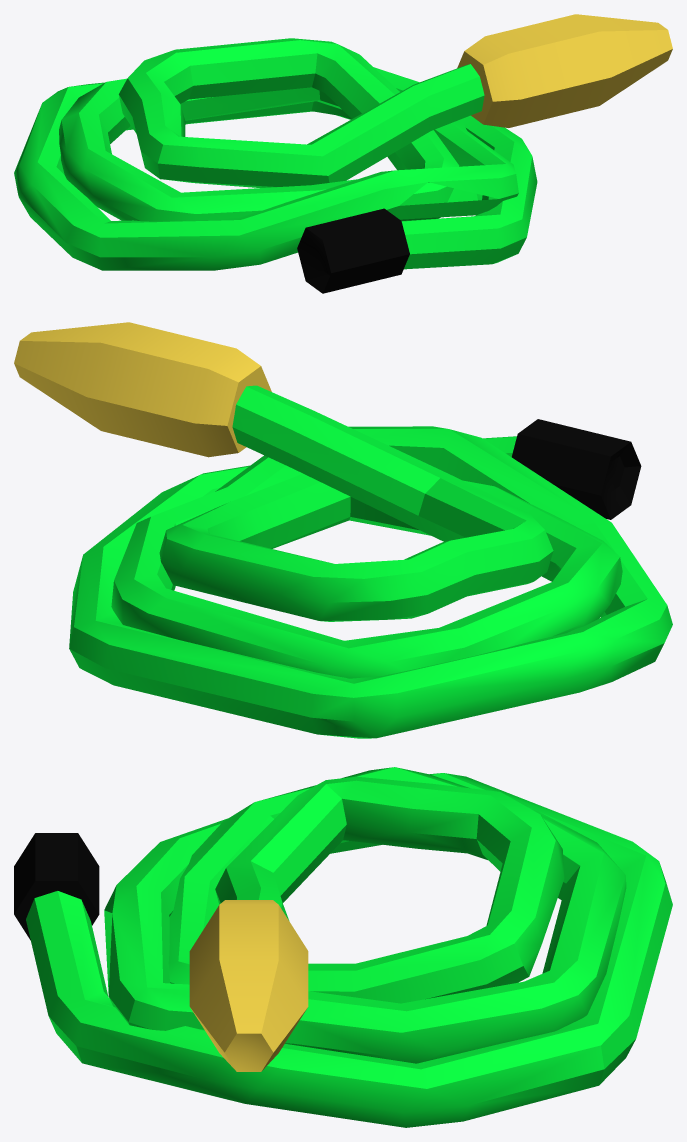
File: Mangueira.fbx
3 renders of one model, top to bottom at view 1: azimuth 30°, elevation 25°; view 2: azimuth 150°, elevation 25°; view 3: azimuth 270°, elevation 25°, orthographic. The views are drawn at different scales.
Parts seen in each view (by area): view 1: Mangueira; view 2: Mangueira; view 3: Mangueira.
Part boxes in pixels (<box>): Mangueira: <box>14,14,672,293</box>; Mangueira: <box>14,322,672,738</box>; Mangueira: <box>14,767,672,1127</box>.
Bounding box in the file's own units: 56.12 × 15.35 × 44.97.
1 material, 1 textured.
